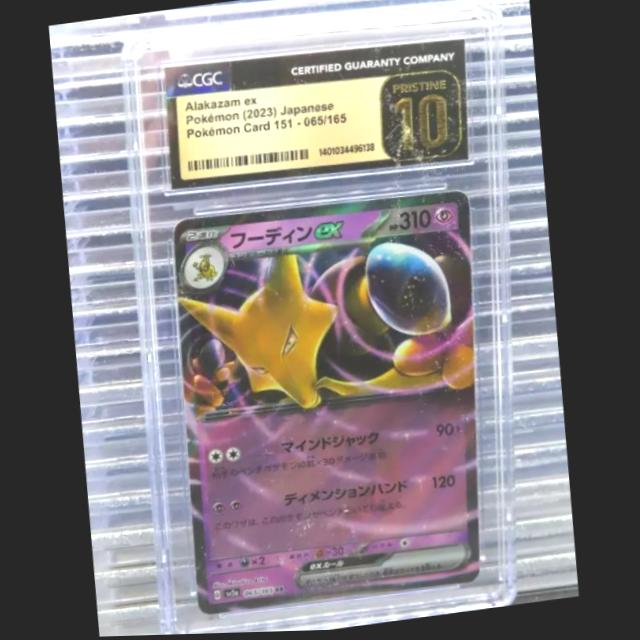card: (170, 189, 484, 618)
cgc_label: (161, 41, 470, 193)
cgc_slab: (114, 5, 520, 636)
